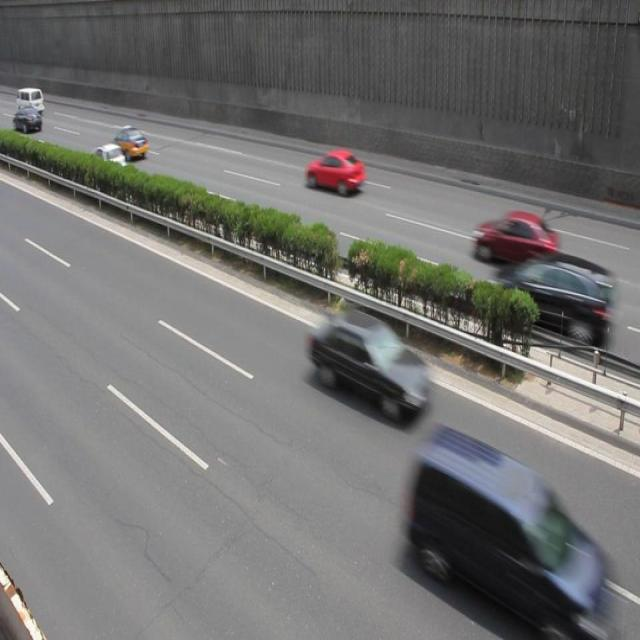car: (305, 307, 429, 422), (491, 249, 615, 355), (472, 211, 561, 271), (305, 152, 364, 193), (109, 127, 149, 163), (87, 144, 127, 176)
truck: (402, 422, 612, 640)
